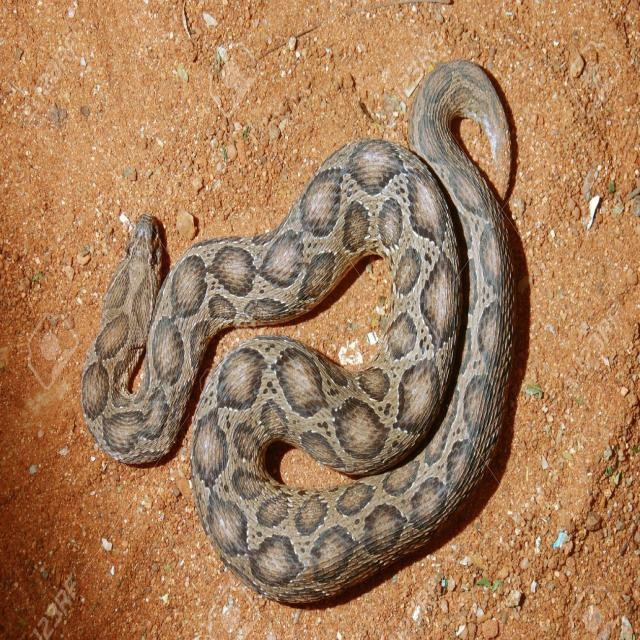Snake: (80, 57, 516, 606)
